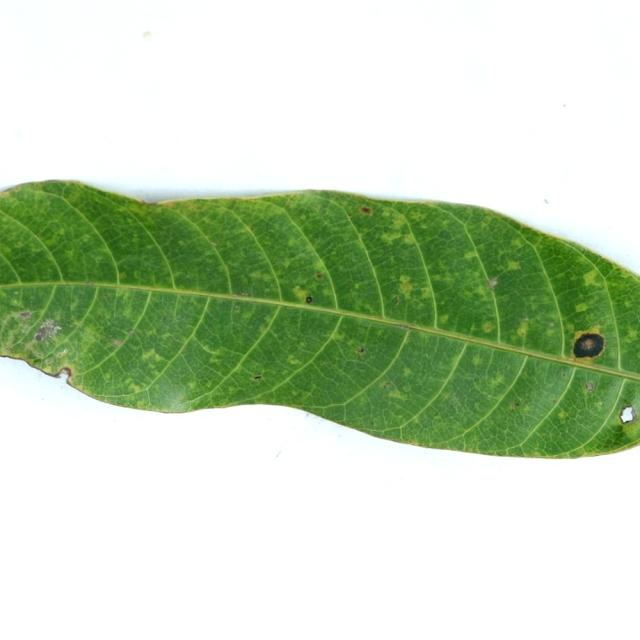Mango: (0, 180, 639, 457)
Powdery_Mildew: (147, 371, 197, 410), (97, 317, 146, 351), (571, 328, 607, 361), (391, 271, 419, 305), (228, 293, 253, 318), (13, 311, 36, 332), (486, 370, 509, 390), (387, 214, 410, 232), (515, 317, 532, 339), (291, 284, 311, 302), (582, 268, 601, 286), (613, 426, 631, 443), (446, 394, 465, 410), (248, 267, 270, 280), (126, 379, 146, 393), (246, 368, 266, 382), (1, 184, 22, 194), (625, 328, 638, 343), (505, 259, 521, 271), (470, 354, 484, 367), (394, 324, 414, 333), (349, 278, 365, 289), (285, 194, 299, 206), (486, 277, 498, 290), (574, 302, 588, 313), (68, 319, 85, 328), (464, 250, 479, 260), (287, 355, 302, 365), (388, 389, 404, 398), (401, 366, 414, 377), (355, 345, 366, 357), (589, 324, 602, 334), (483, 322, 494, 332), (557, 410, 568, 420), (232, 293, 250, 298), (585, 381, 594, 391), (57, 350, 68, 358), (360, 206, 371, 214), (383, 382, 393, 389), (118, 273, 127, 280), (315, 272, 324, 279), (393, 296, 399, 306), (595, 401, 603, 408), (512, 402, 520, 409), (85, 281, 95, 286), (550, 397, 558, 402), (522, 317, 529, 322), (46, 359, 53, 364), (561, 372, 566, 378), (210, 242, 217, 246), (548, 323, 555, 327), (14, 291, 19, 296), (181, 296, 186, 300), (104, 293, 108, 298)
